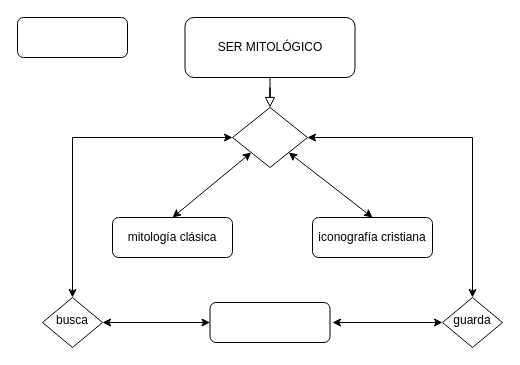
The diagram is 520 pixels wide and 365 high, and some of its shapes have lost their labels. The centre of each missing label's shape, as x and y in pixels:
"diccionario" goes at (72,37).
"pertenece" goes at (270,137).
"Plug in lamp" goes at (269,322).
